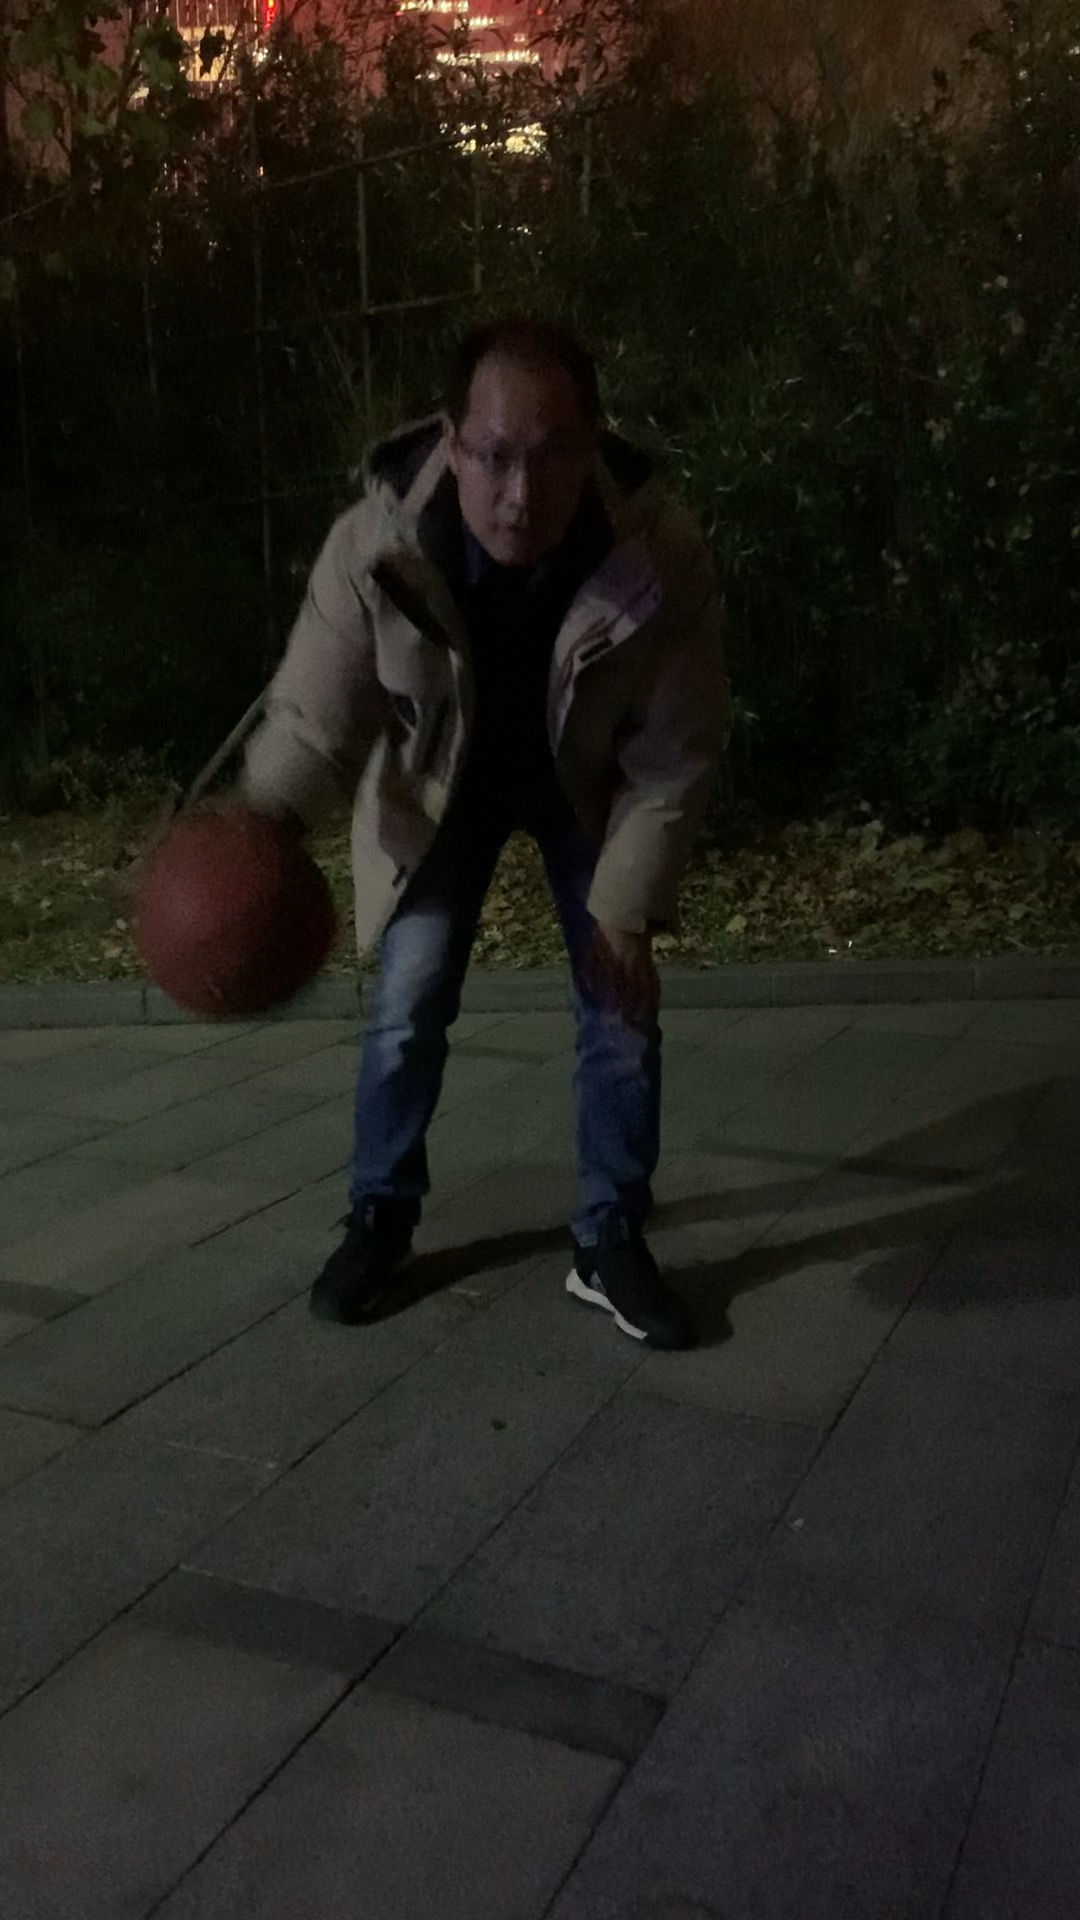ball: (138, 814, 336, 1025)
